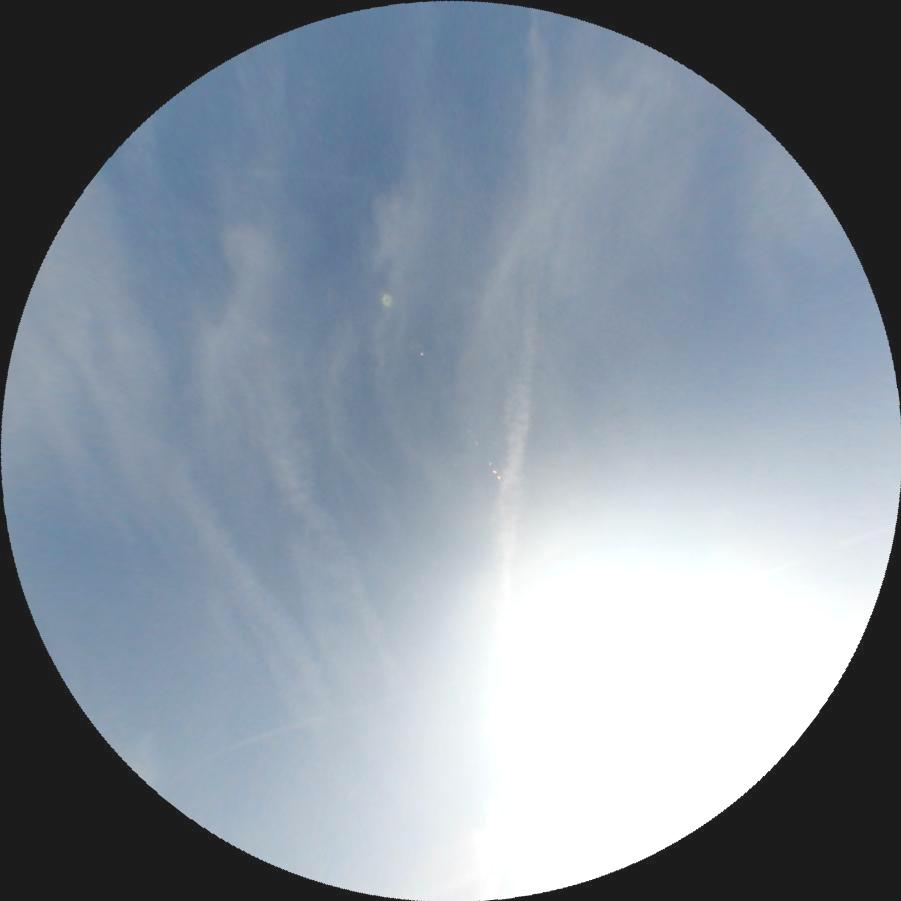contrail old: (172, 521, 898, 776)
contrail veryold: (473, 7, 551, 894), (216, 349, 403, 711), (159, 445, 356, 756)
sun: (500, 556, 820, 876)
